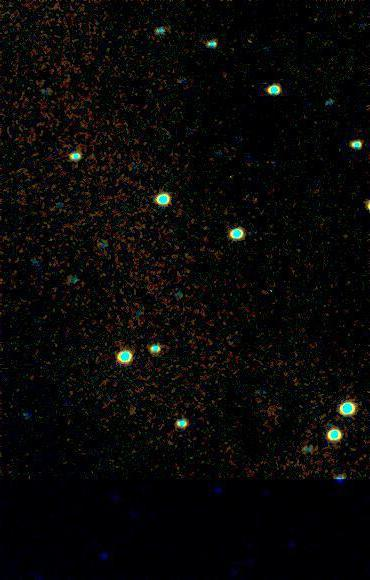star: (352, 191, 370, 221)
